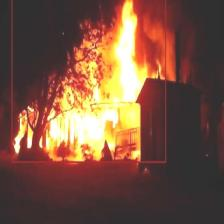fire: (11, 0, 165, 162)
